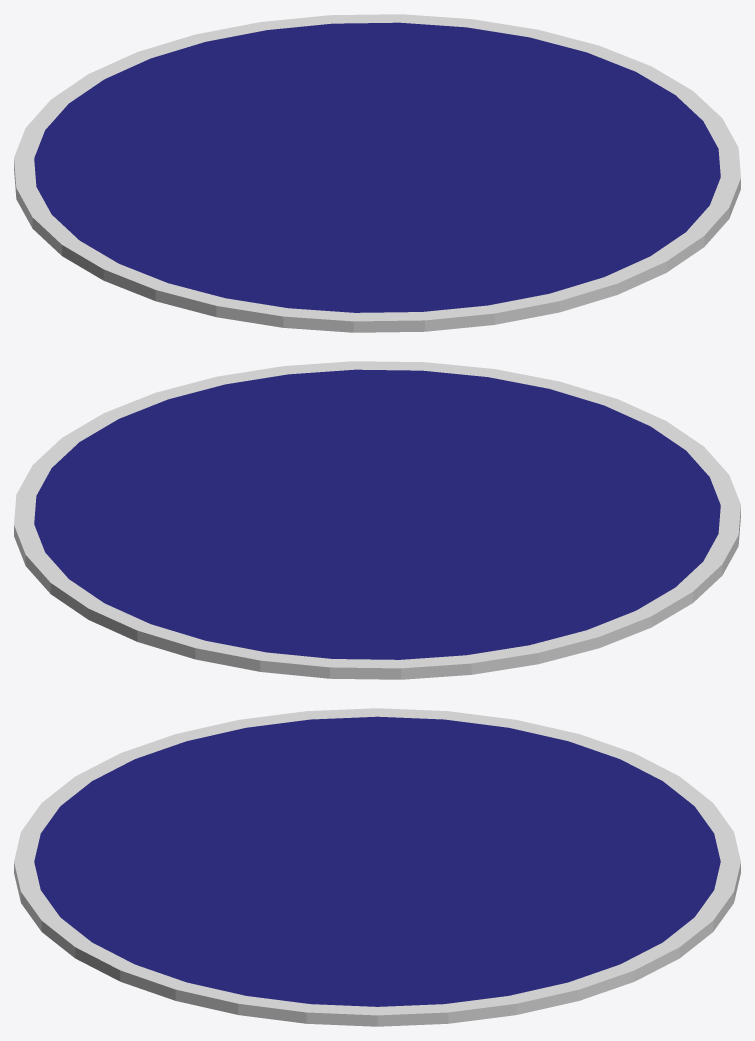
The model's file is Carpet02.fbx.
3 renders of one model, top to bottom at view 1: azimuth 30°, elevation 25°; view 2: azimuth 150°, elevation 25°; view 3: azimuth 270°, elevation 25°, orthographic.
Visible parts, largest first — view 1: Cylinder; view 2: Cylinder; view 3: Cylinder.
Boxes of the visible parts, x1=… form: Cylinder: x1=14, y1=14, x2=740, y2=332; Cylinder: x1=14, y1=361, x2=740, y2=679; Cylinder: x1=14, y1=708, x2=740, y2=1026.
Bounding box in the file's own units: 507 × 8.72 × 507.
